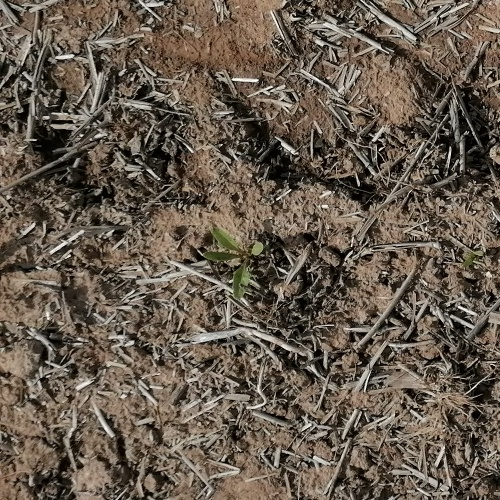beet: (204, 229, 264, 300)
